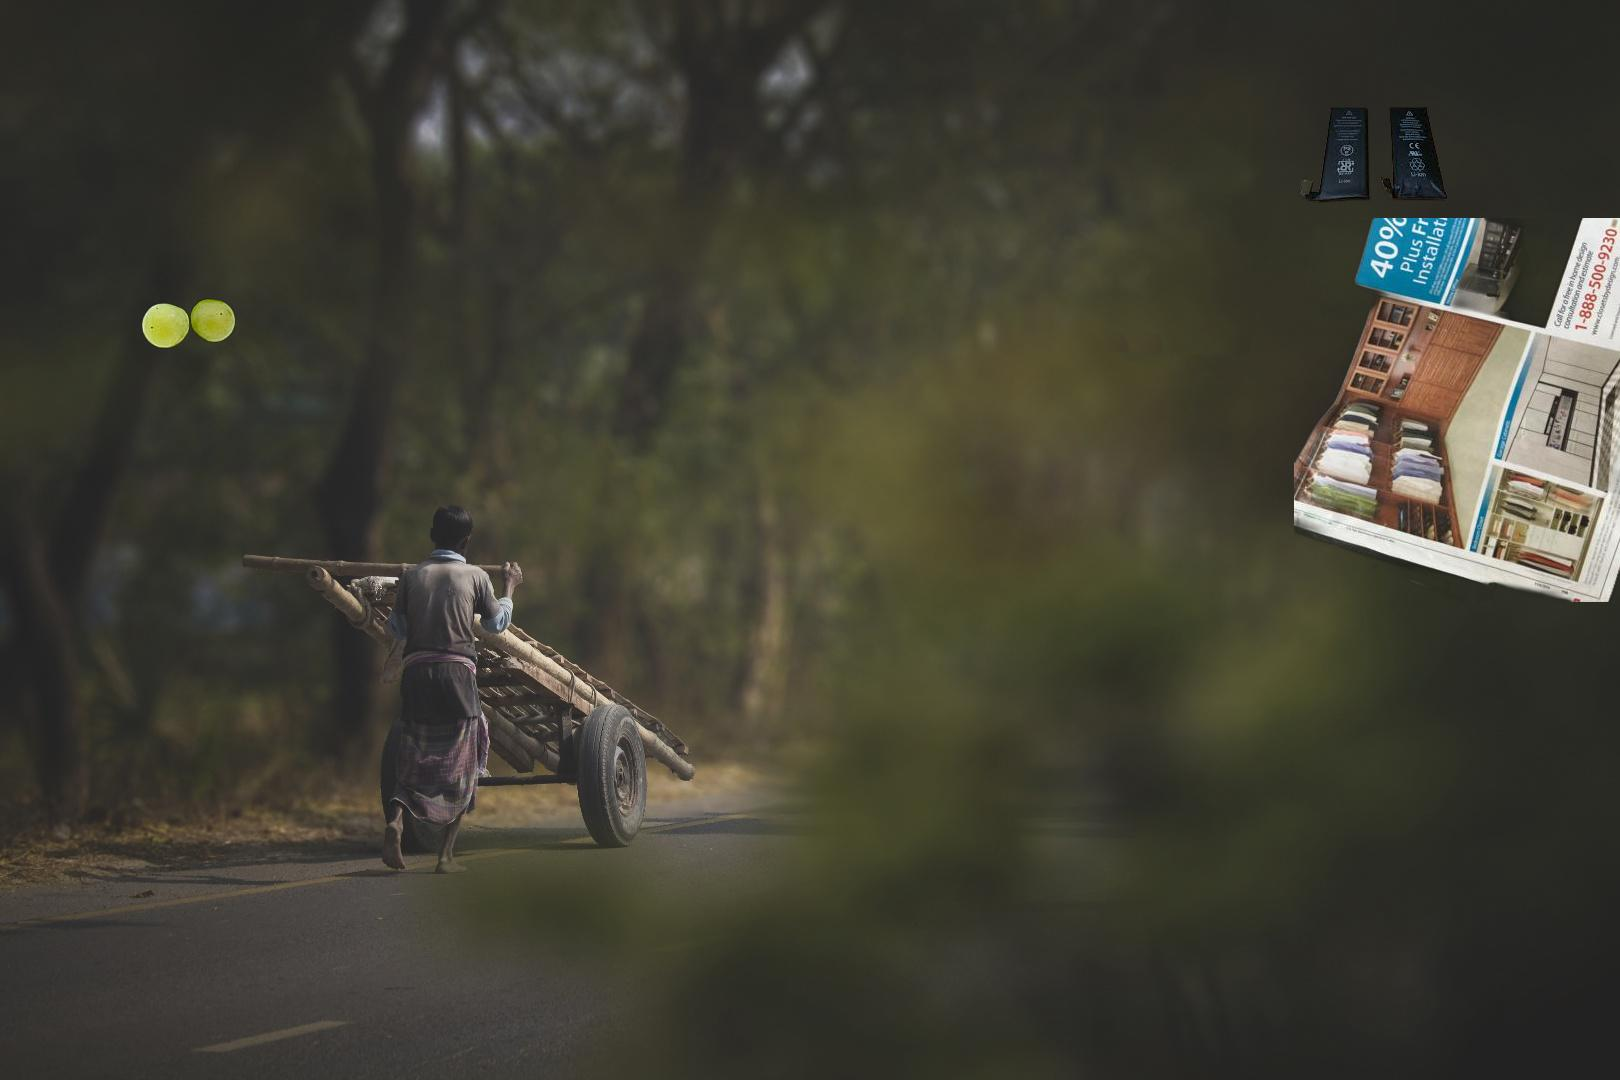battery: (1296, 104, 1450, 206)
biological: (102, 262, 313, 401)
paper: (1295, 218, 1620, 601)
